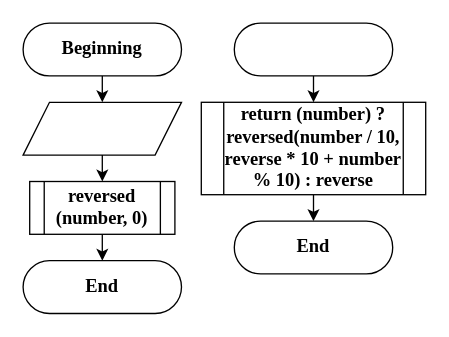
This 449x337 diagram has some shape labels left out. The centre of each missing label's shape, as x and y in pixels:
Enter a number: point (102, 128)
reverse (number, 0): point (313, 49)
